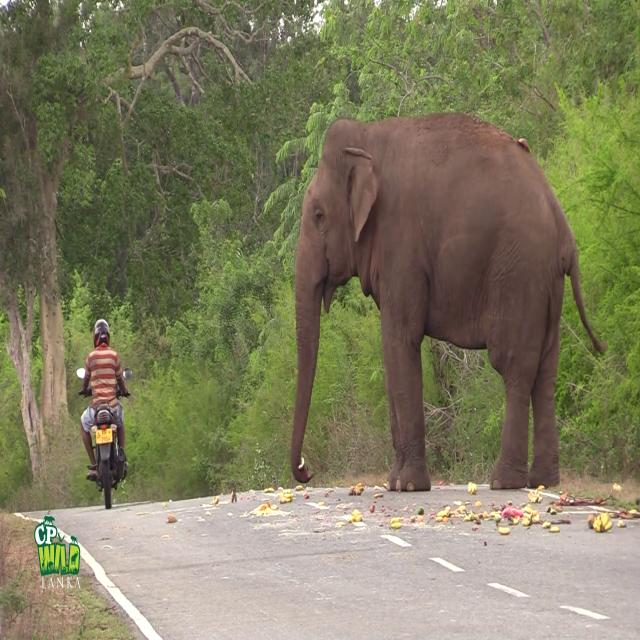Elephant: (290, 111, 608, 492)
person: (79, 318, 130, 481)
